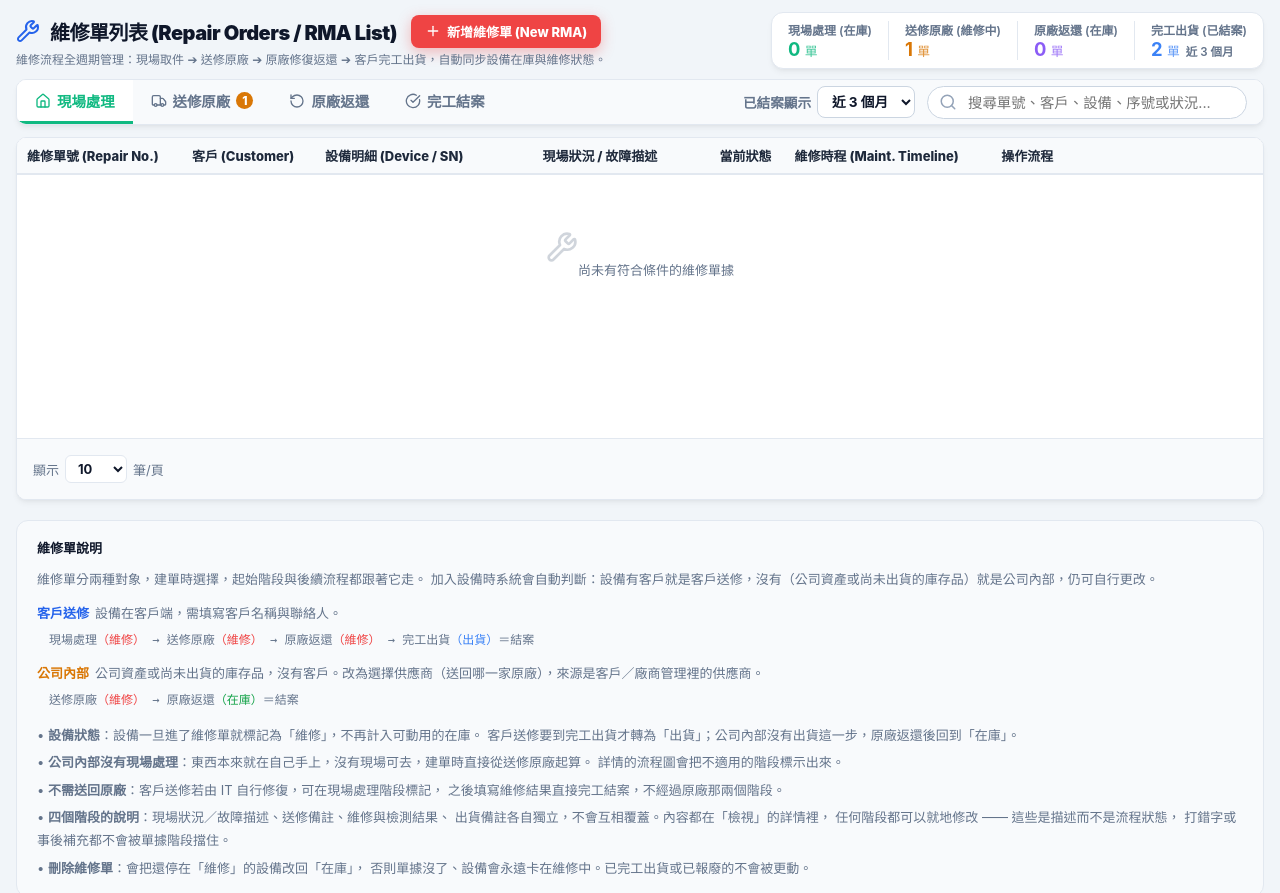
Test: 維修單列表 › 完工結案預設只列近 3 個月結案的
Expected: the text with test id "stat-1" reads "1", [905,38,913,60]
Click the button "完工結案".
click(445, 102)  # box [387,80,503,124]
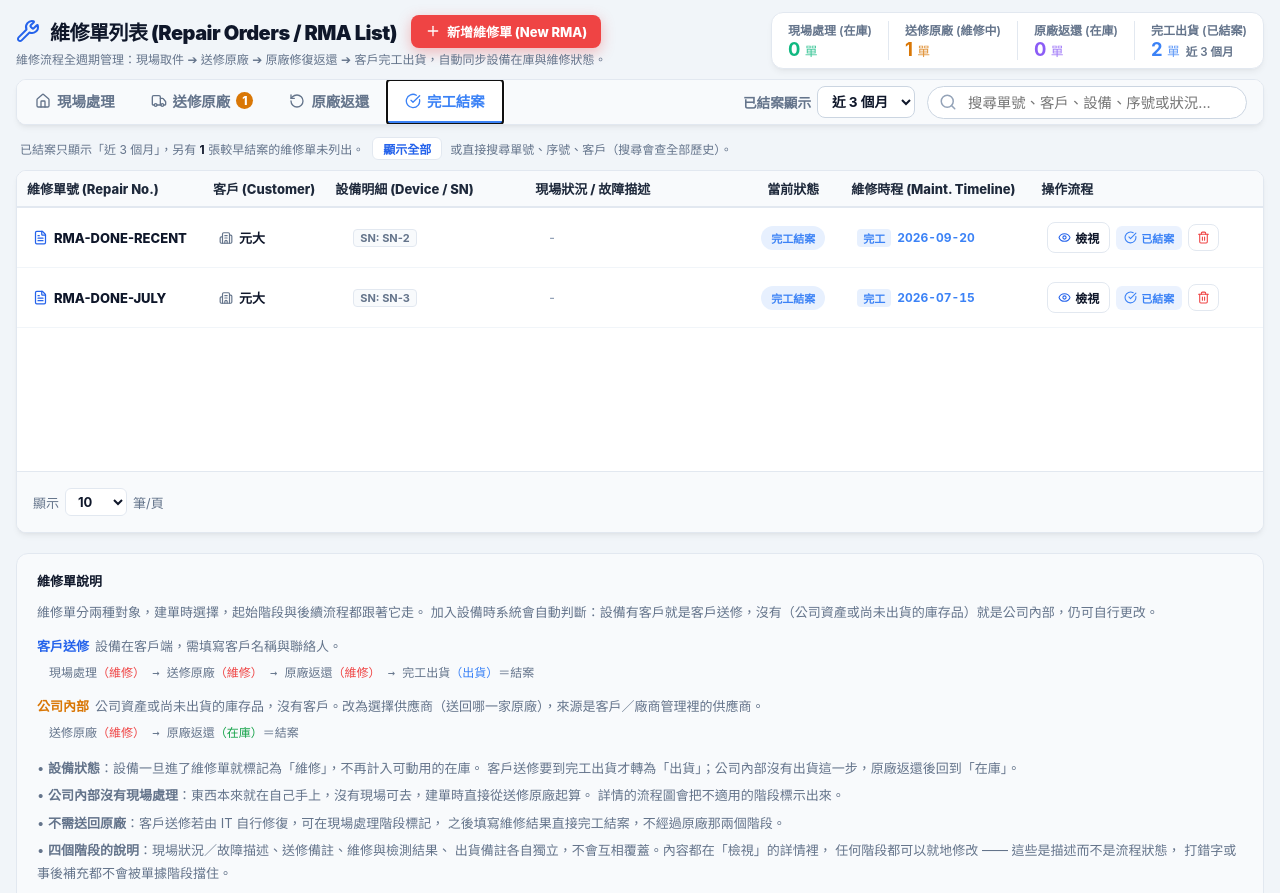
Now the text "RMA-DONE-RECENT" is shown, box [54,230,187,246]
Now the text "RMA-DONE-JULY" is shown, box [54,290,166,306]
